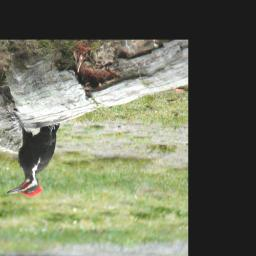Woodpecker: (7, 119, 61, 201)
